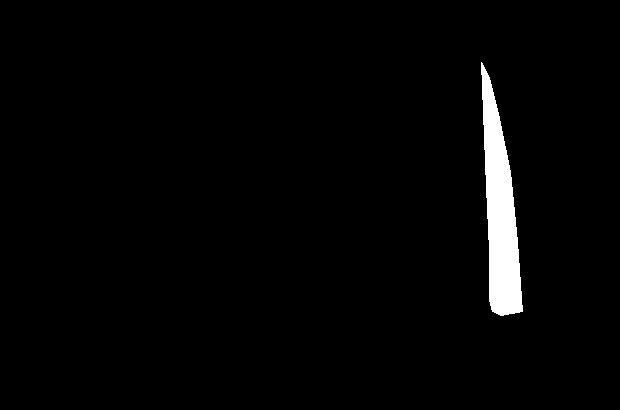type5: (476, 60, 528, 318)
